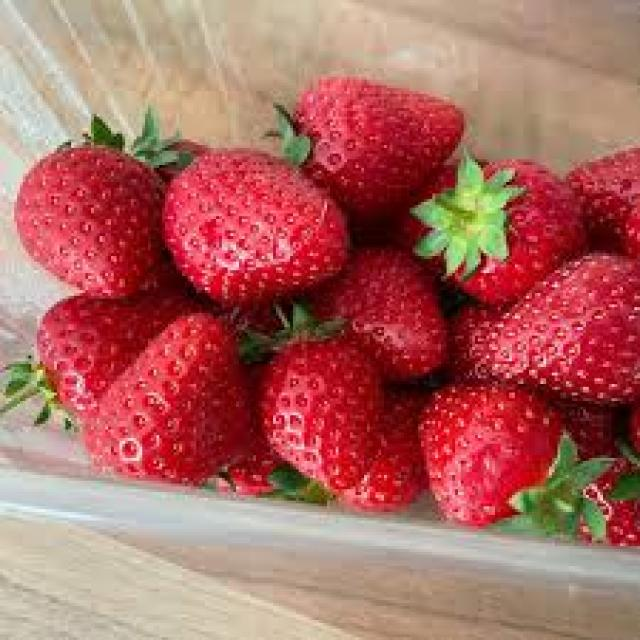strawberry: (153, 114, 361, 319), (81, 309, 256, 489), (278, 58, 472, 211), (466, 253, 639, 404), (420, 154, 581, 308), (14, 142, 171, 299), (419, 381, 566, 528)
